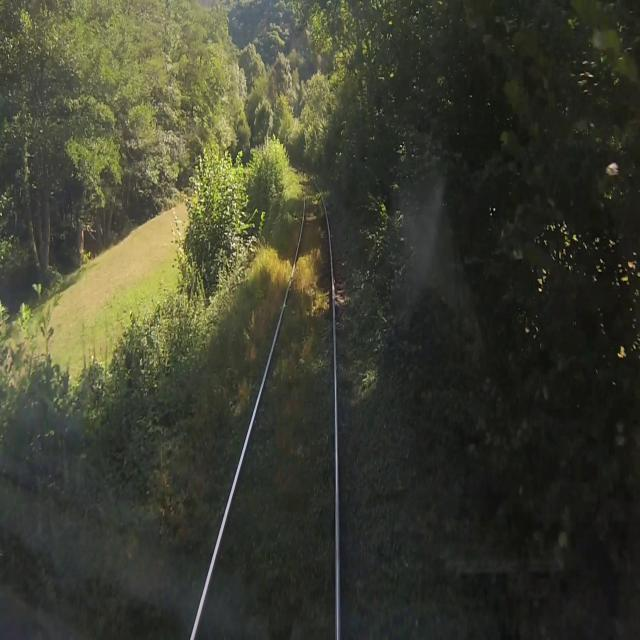Plant: (115, 170, 304, 639), (195, 171, 334, 639), (291, 150, 399, 639)
